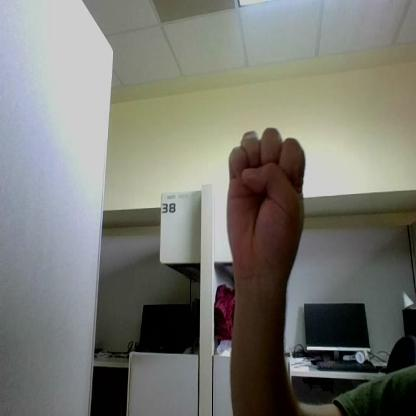S: (228, 128, 306, 262)
